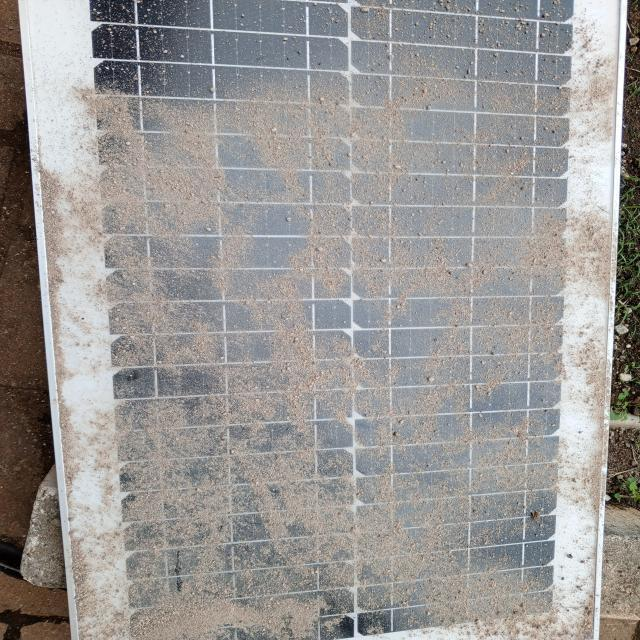Surface Contaminant: (75, 67, 583, 630)
